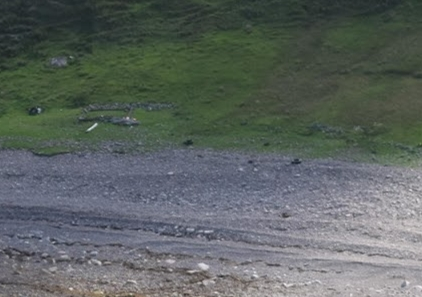straight_bar: (76, 111, 108, 141)
white_in_green: (16, 91, 55, 125)
